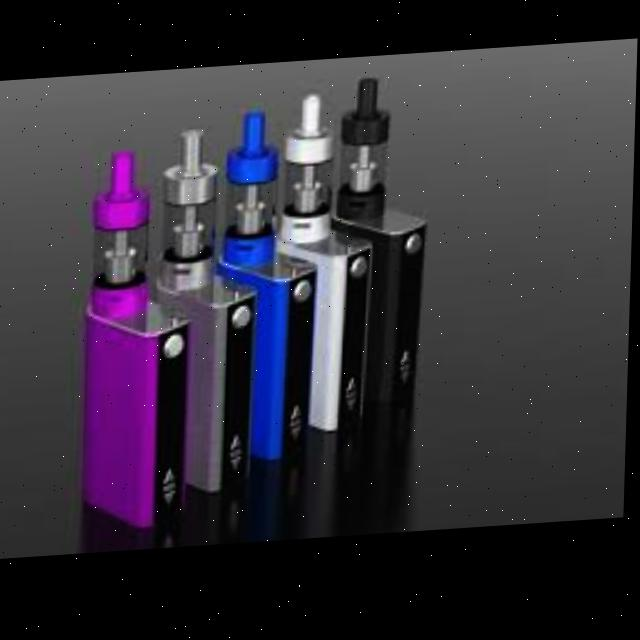vape: (84, 143, 200, 531), (154, 125, 263, 501), (272, 95, 378, 443), (225, 108, 321, 465), (330, 76, 432, 409)
